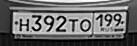license-plateSW: (11, 10, 128, 34)
